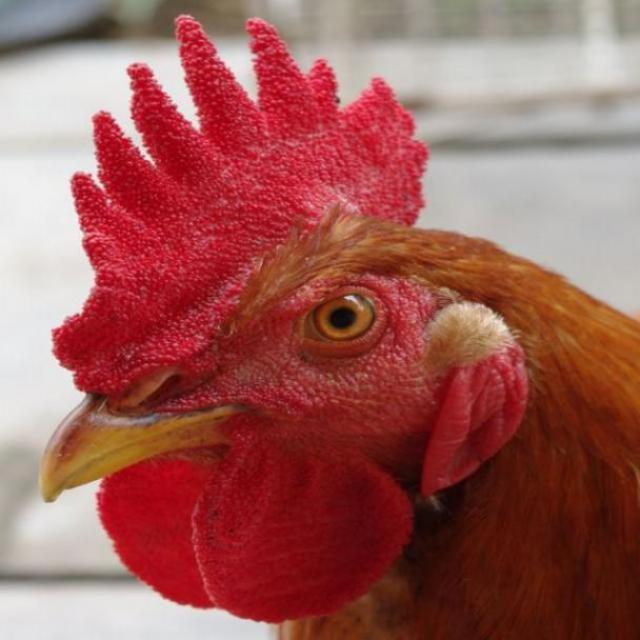Chicken: (10, 35, 619, 635)
